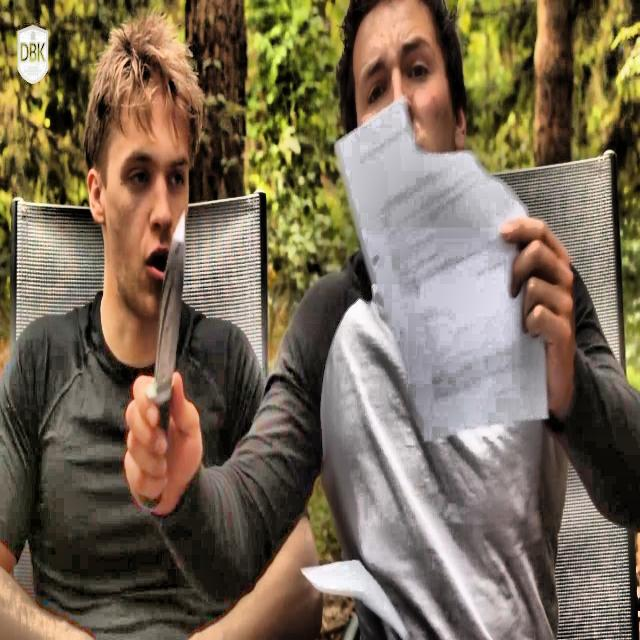knife: (139, 208, 186, 510)
